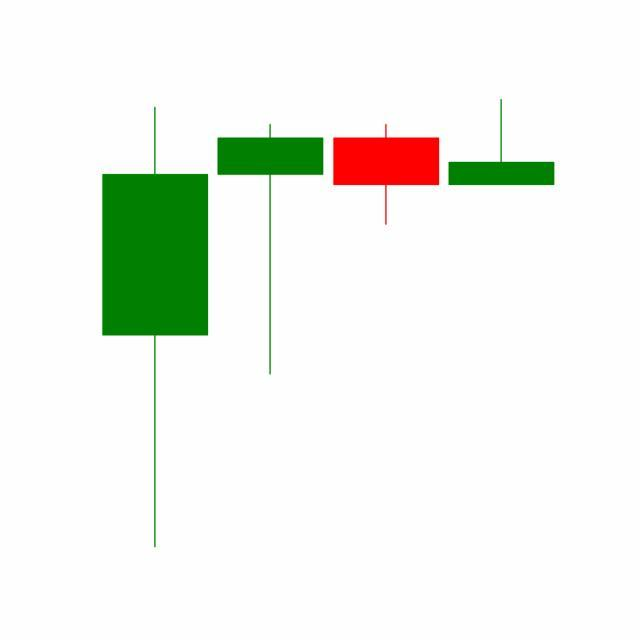Gravestone Doji: (444, 98, 560, 186)
